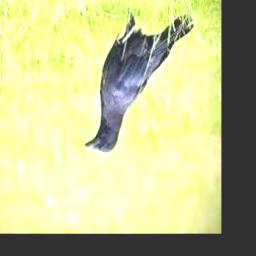Crow: (84, 2, 194, 153)
